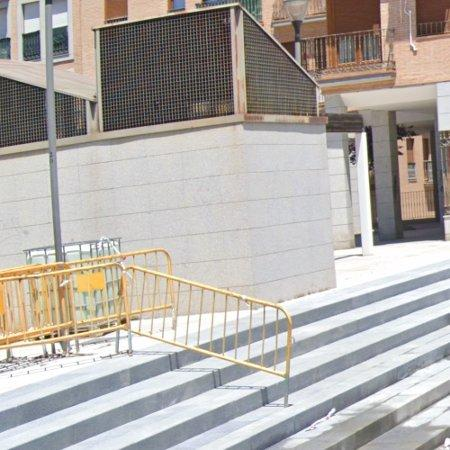stairs: (0, 262, 450, 450)
